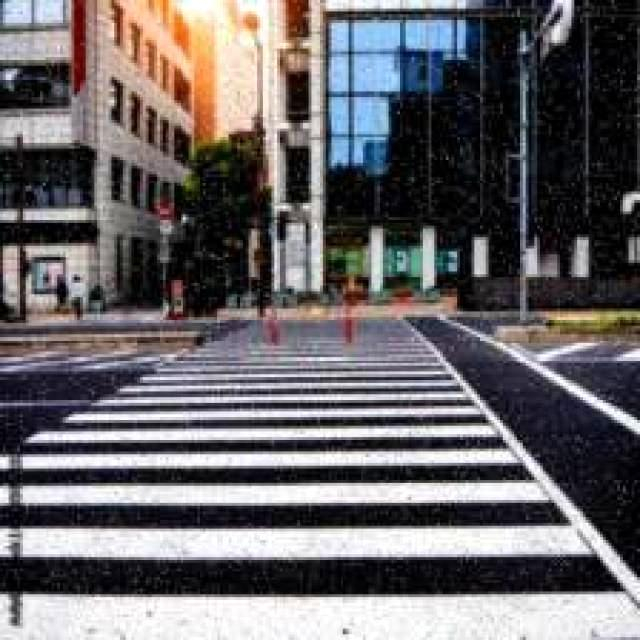crosswalk: (0, 311, 639, 639)
